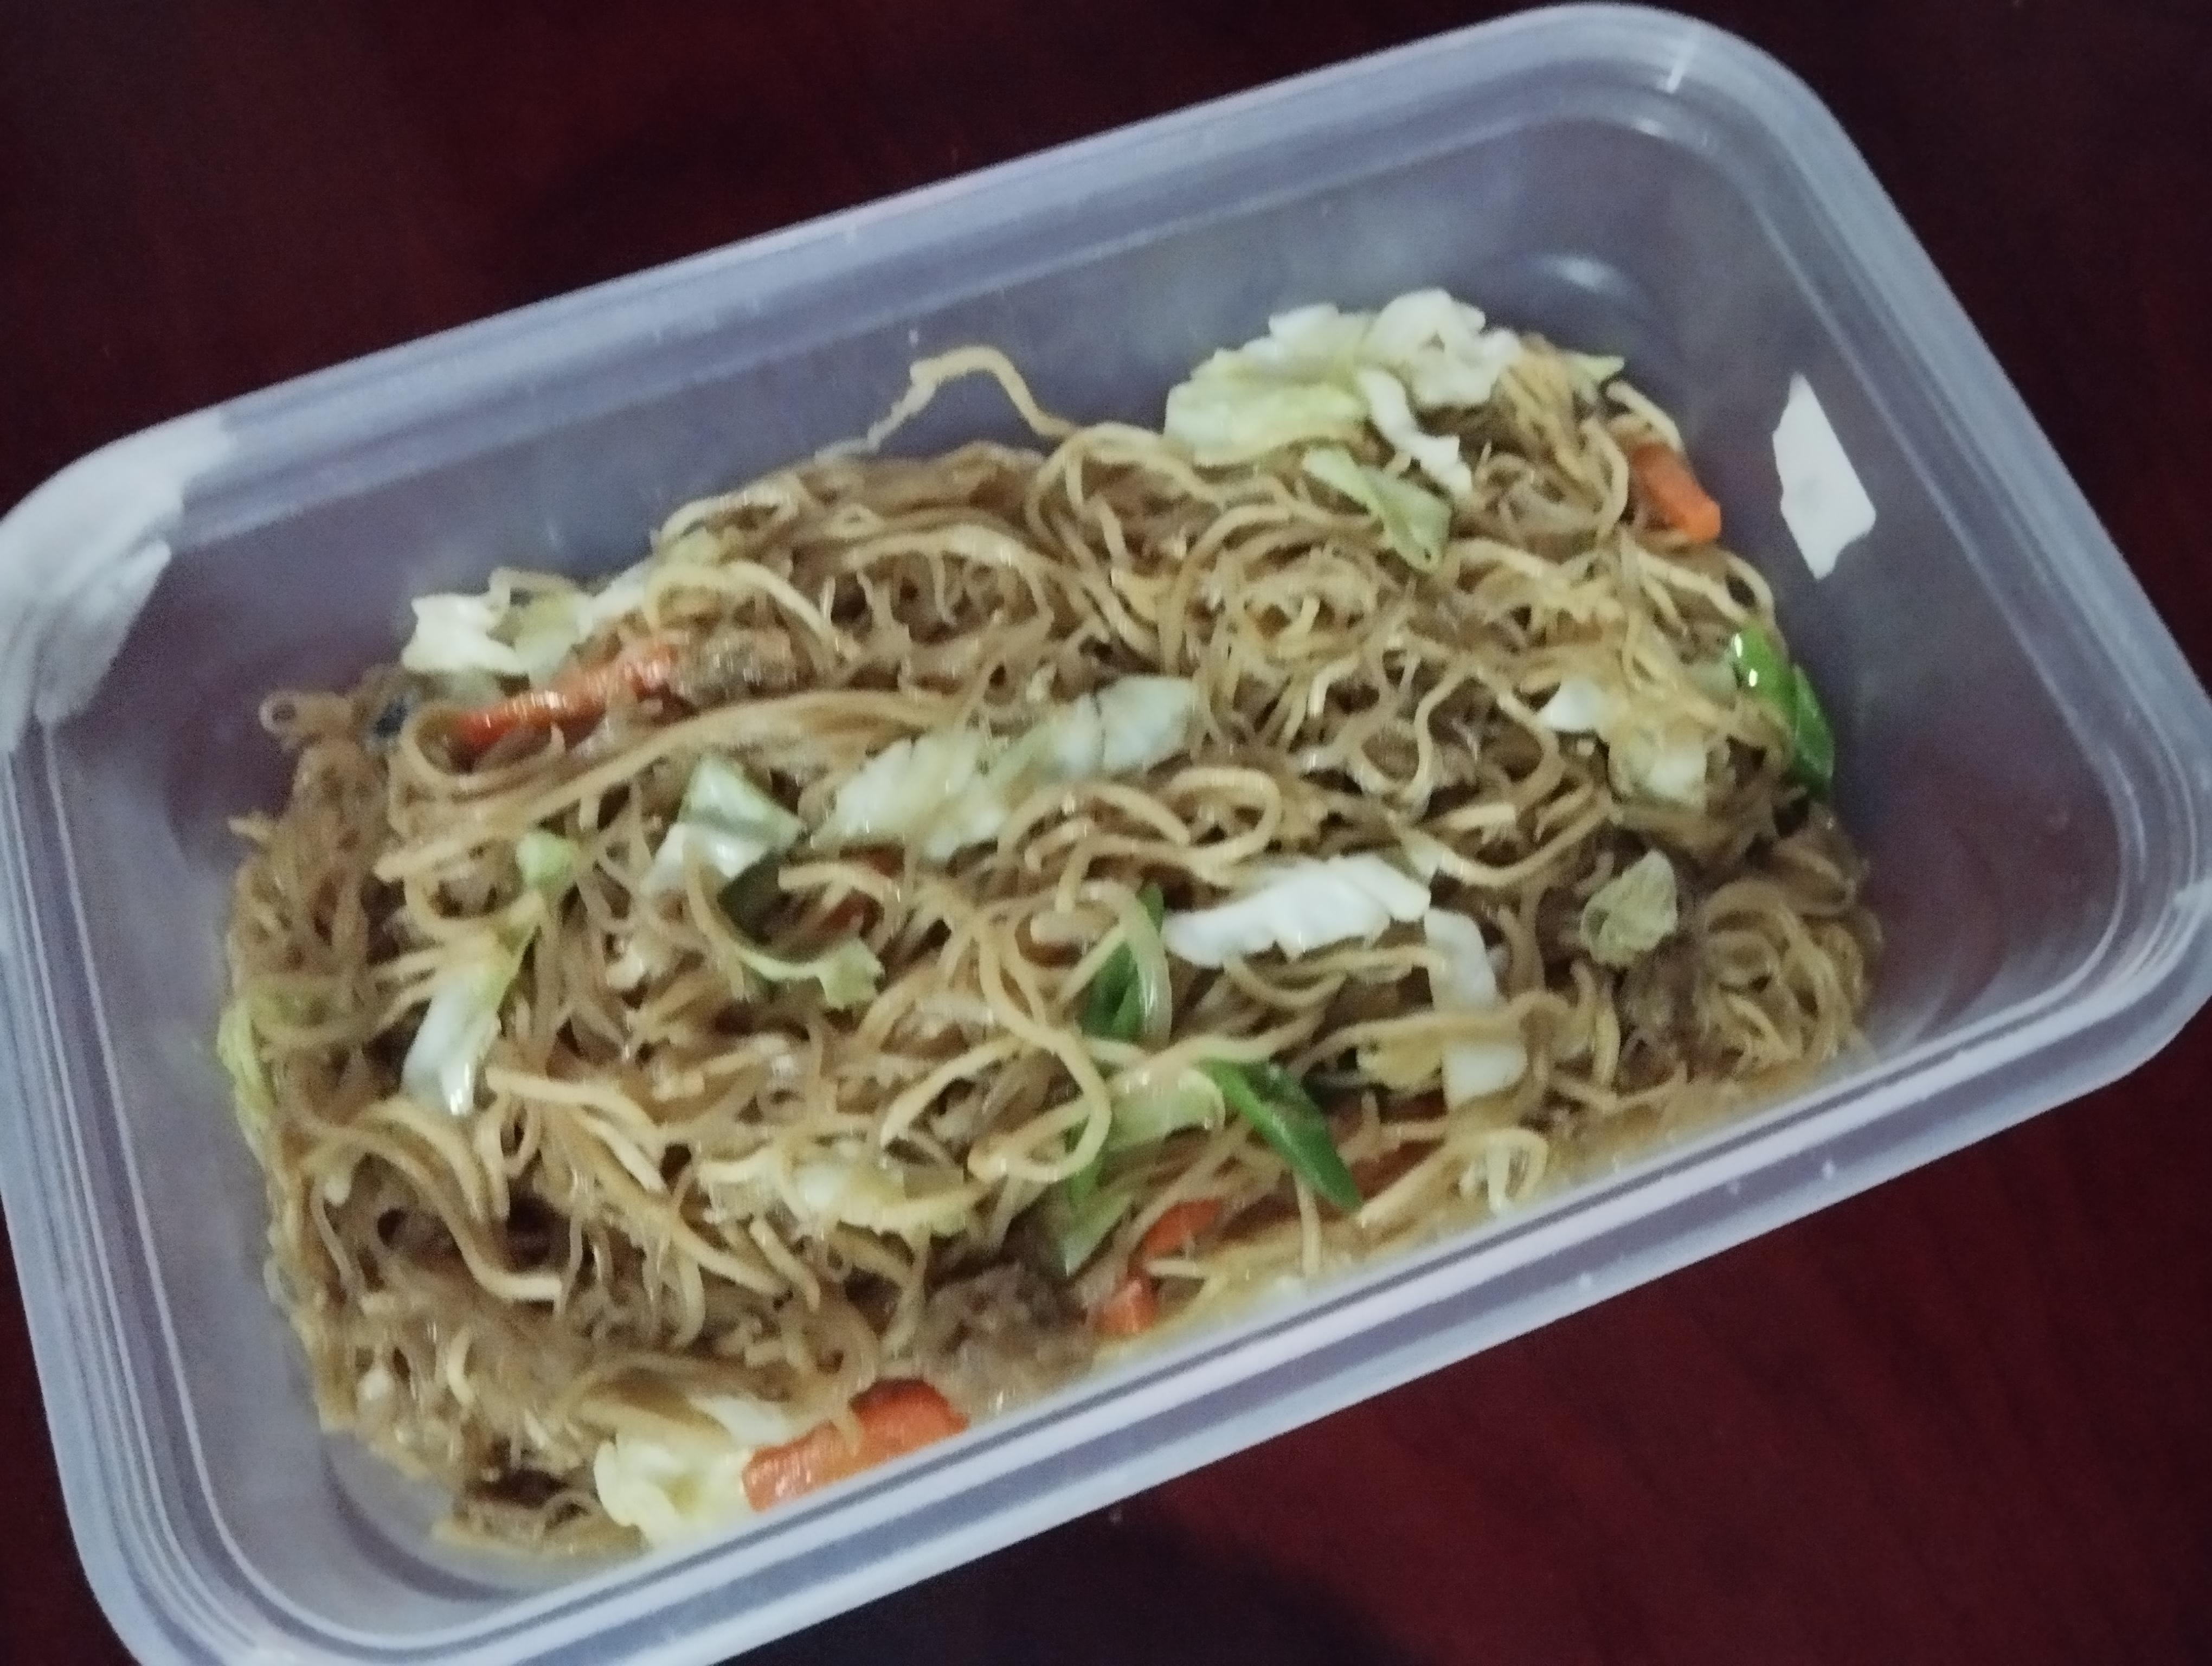pancit bihon: (229, 308, 1873, 1549)
